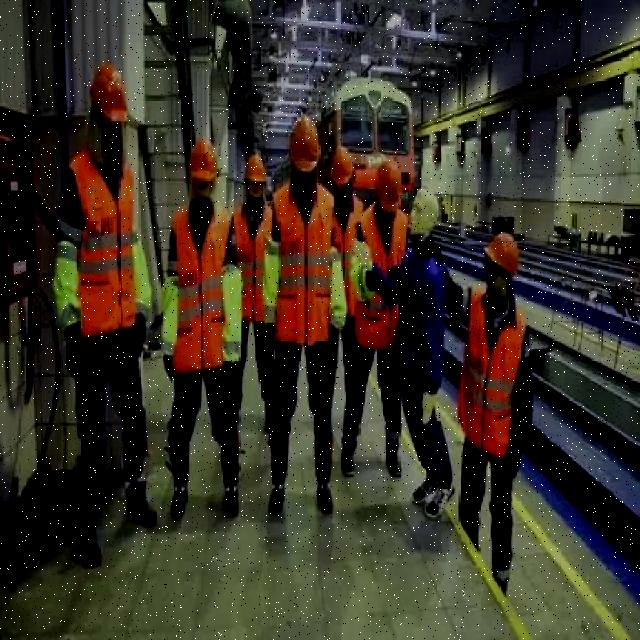Gloves: (64, 321, 84, 374), (136, 310, 146, 356), (222, 358, 240, 382), (262, 319, 276, 347), (507, 445, 521, 473), (162, 355, 175, 380)
Helmet: (89, 66, 129, 125), (289, 118, 320, 174), (482, 232, 520, 272), (376, 158, 401, 217), (188, 138, 218, 184), (330, 147, 355, 187), (243, 154, 266, 188)
Mask: (370, 241, 466, 493), (68, 149, 134, 334), (458, 286, 526, 459), (172, 206, 232, 374), (273, 183, 333, 344), (356, 202, 409, 352), (234, 198, 274, 319), (332, 196, 362, 316)
